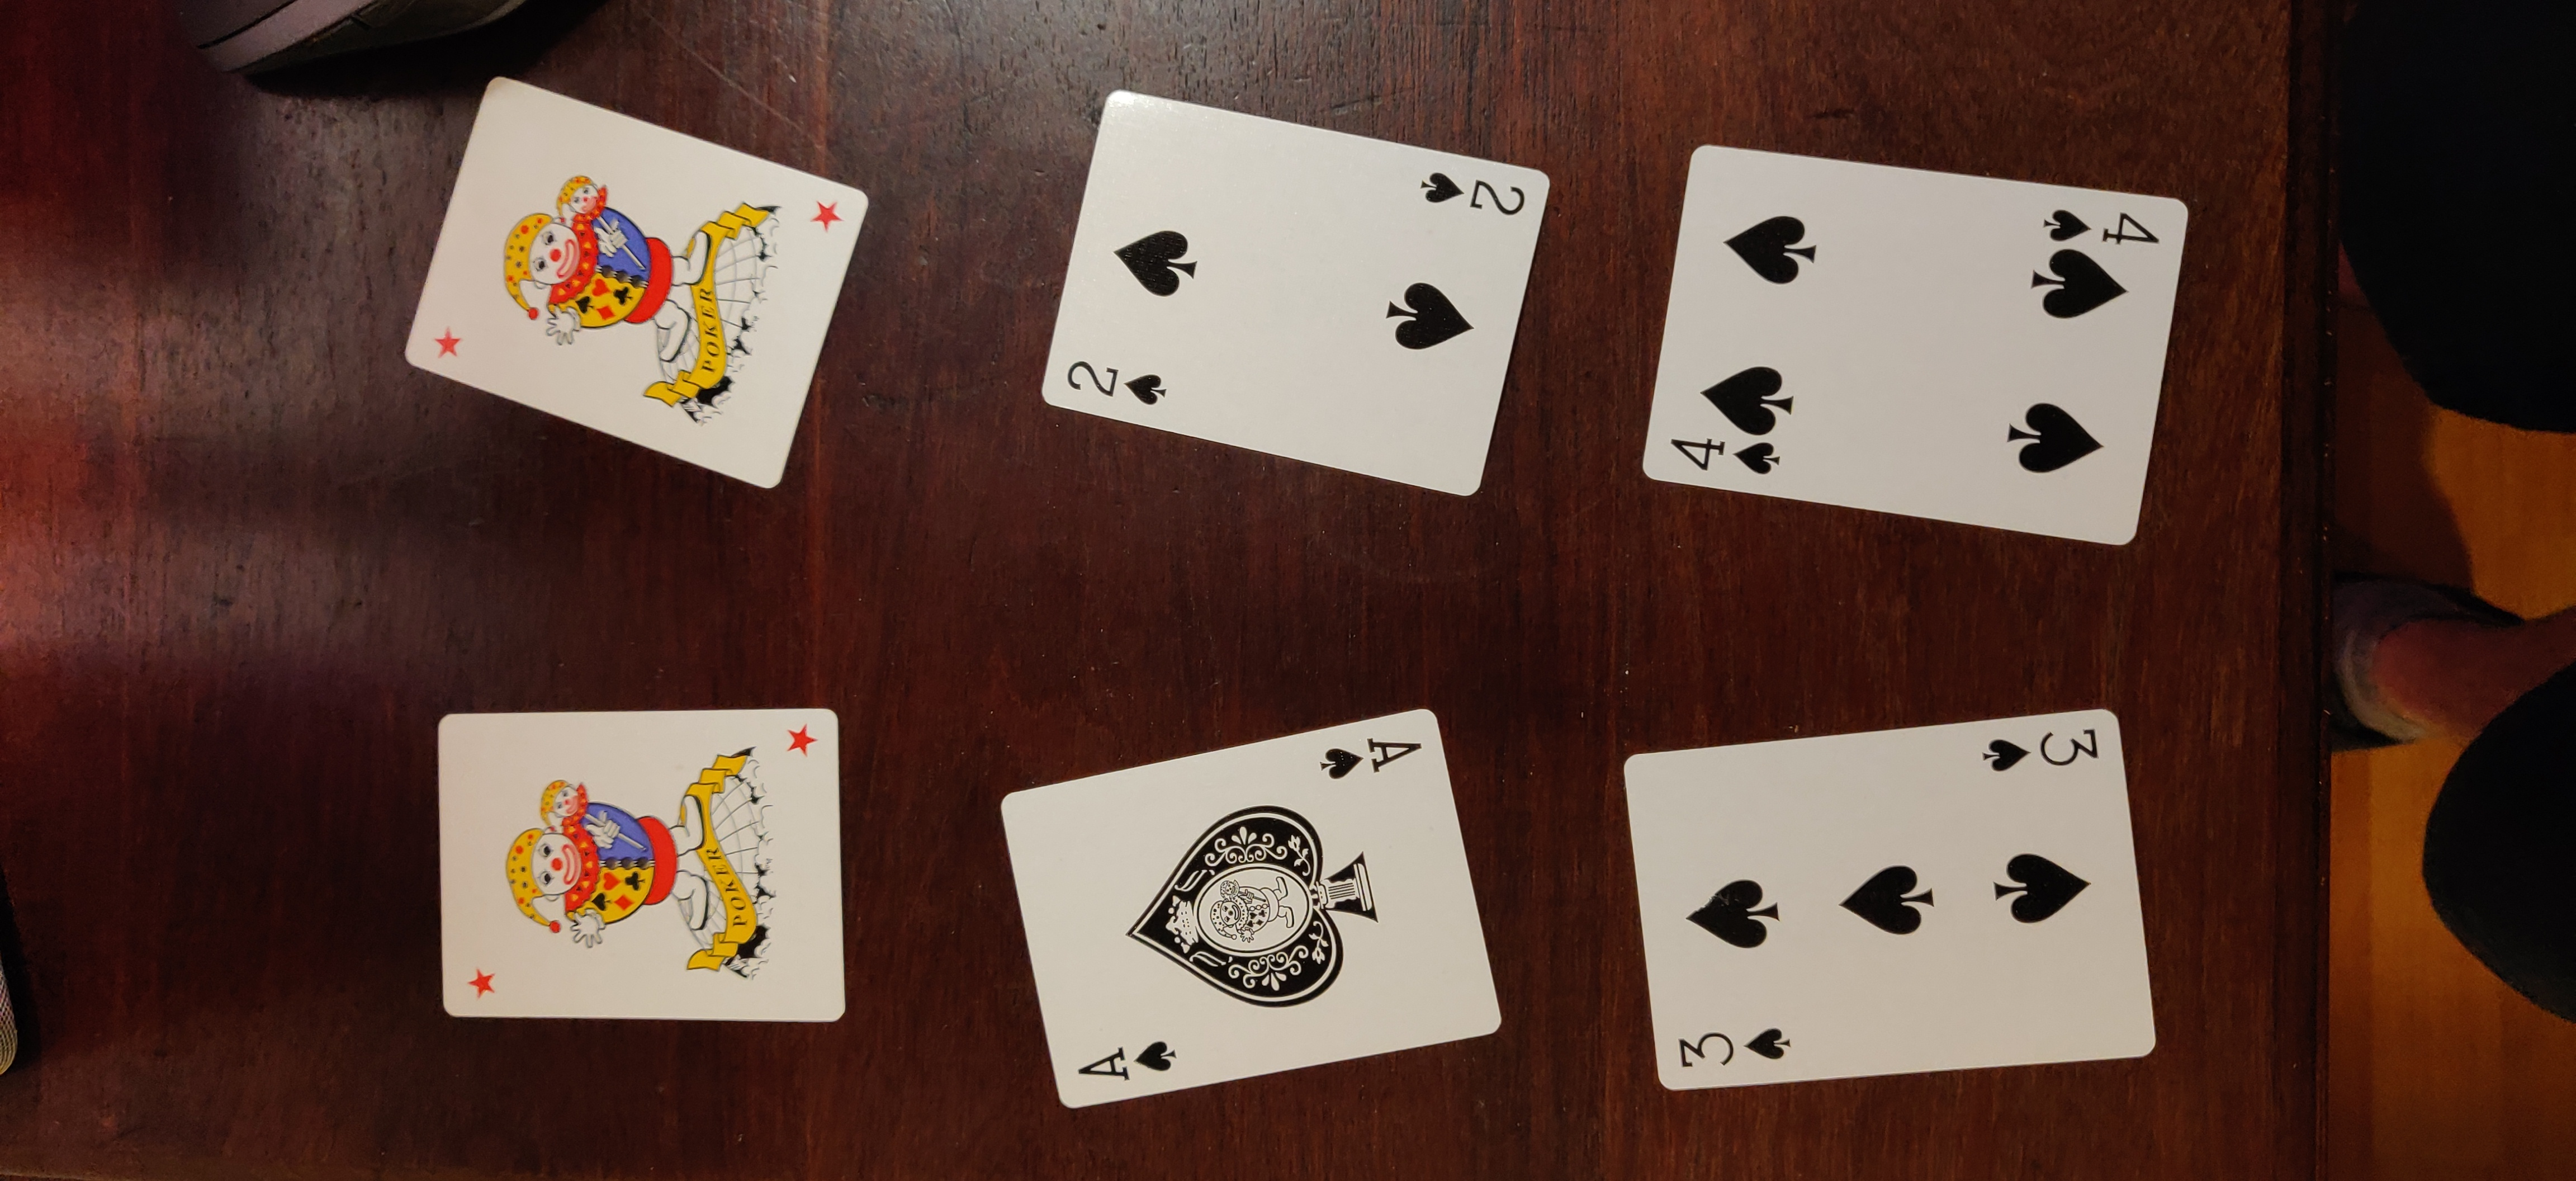2_of_spades: (1035, 76, 1559, 522)
3_of_spades: (1595, 677, 2180, 1119)
4_of_spades: (1640, 122, 2201, 575)
ace_of_spades: (989, 695, 1521, 1128)
joker: (394, 69, 889, 498), (432, 695, 853, 1030)
